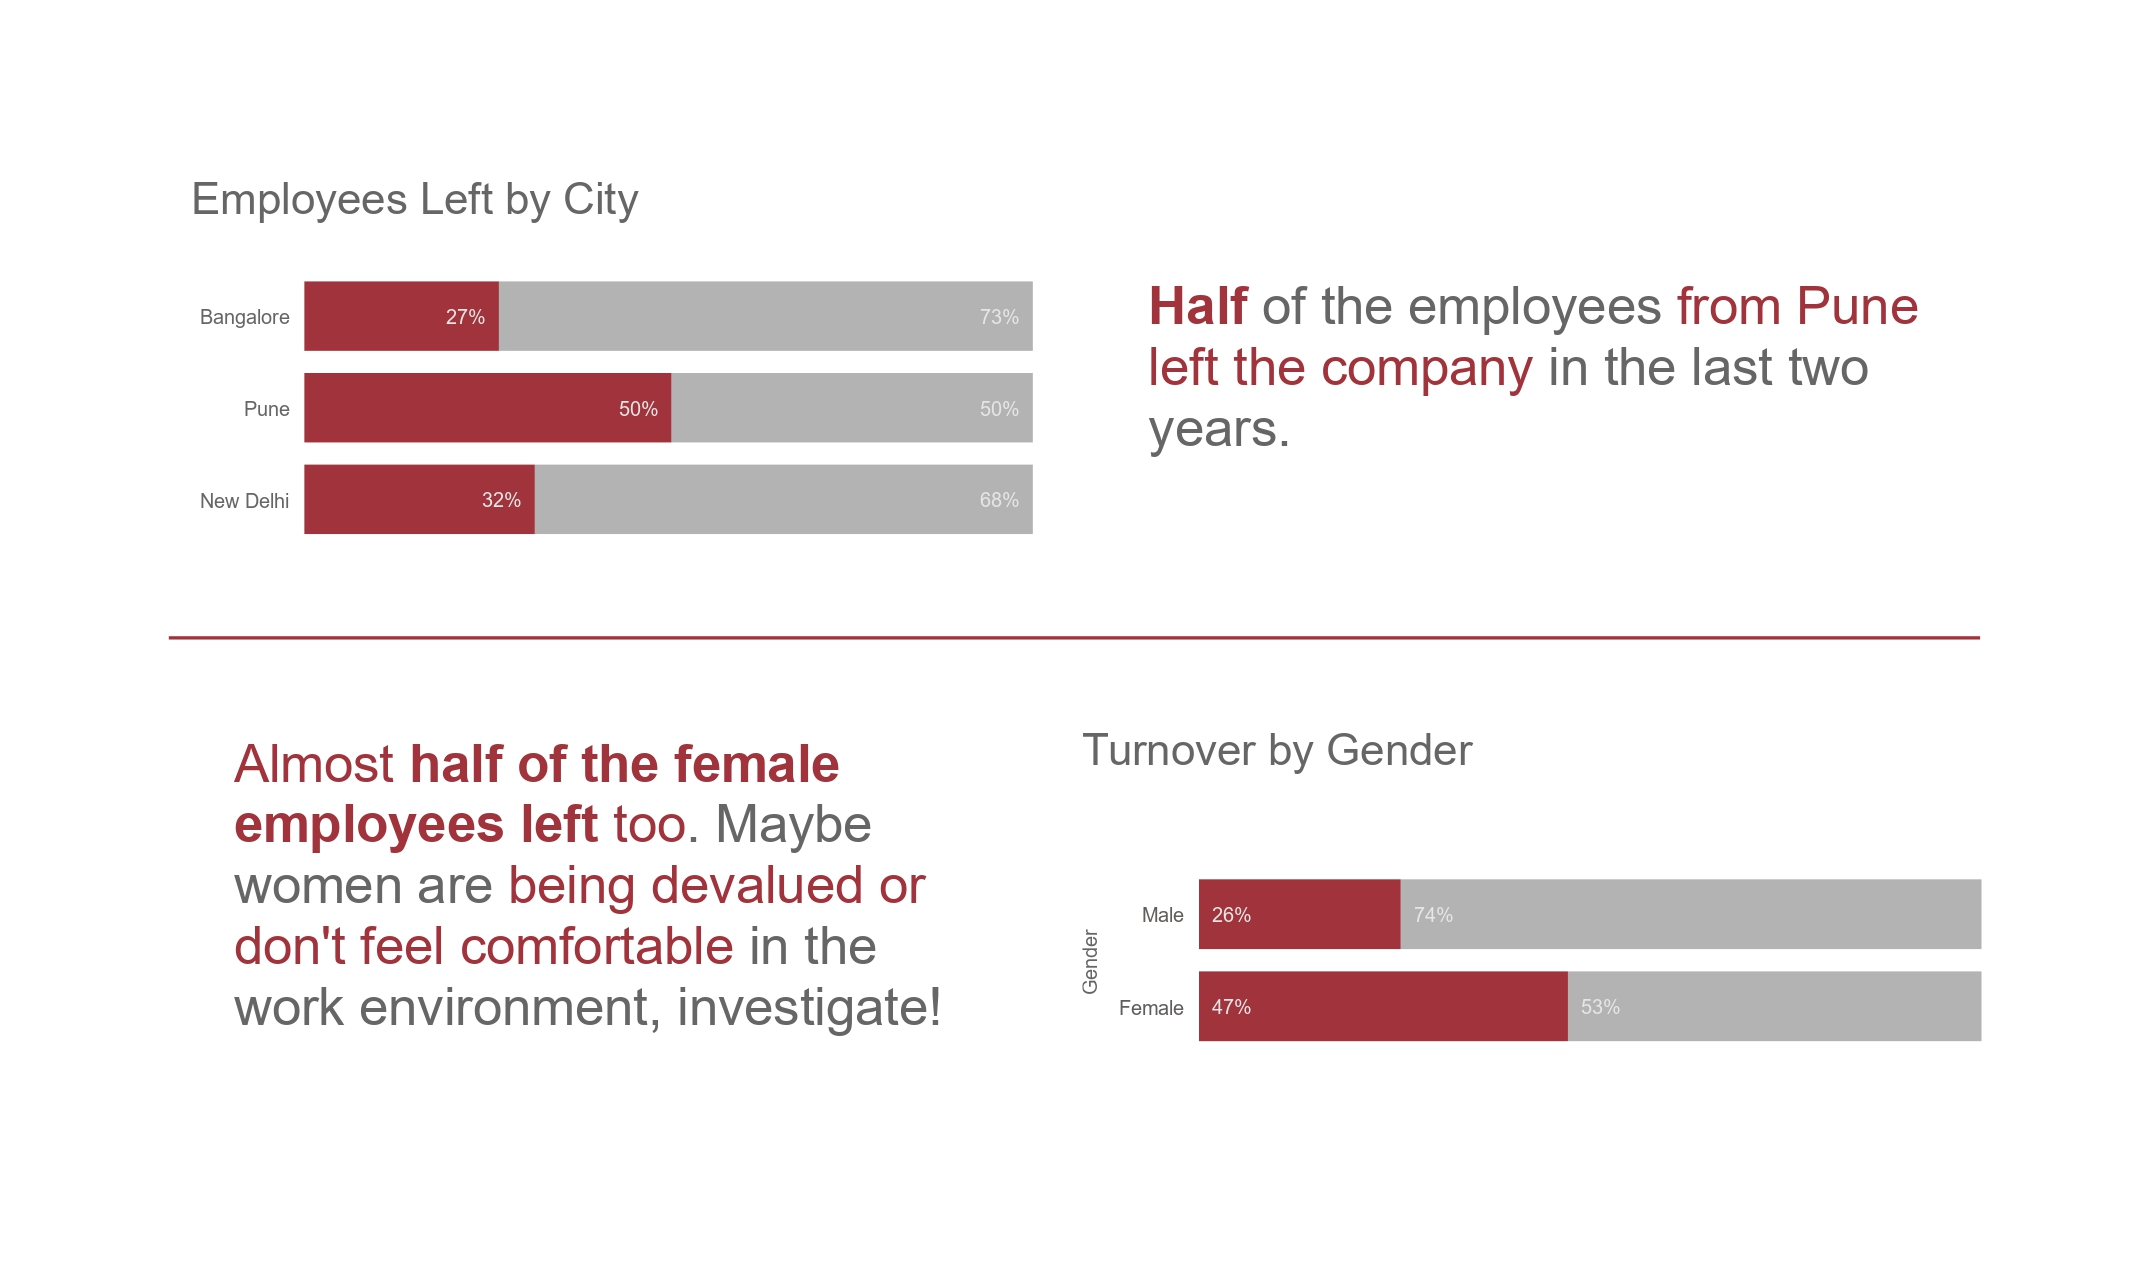

Layout of this report page (visuals, bound fields, positions):
{"tool":"powerbi","page":{"name":"Página 3","canvas":[1280,720],"ordinal":2},"visuals":[{"type":"hundredPercentStackedBarChart","title":"Employees Left by City","fields":{"Category":["Employee.City"],"Y":["CountNonNull(Employee.LeaveOrNot)"],"Series":["Employee.LeaveOrNot"]},"box":[96.3,77.6,523.1,248.6],"z":1},{"type":"hundredPercentStackedBarChart","title":"Turnover by Gender","fields":{"Category":["Employee.Gender"],"Y":["CountNonNull(Employee.LeaveOrNot)"],"Series":["Employee.LeaveOrNot"]},"box":[639.5,413.9,557.6,250.1],"z":2},{"type":"textbox","box":[679.8,135.1,503,133.7],"z":4},{"type":"textbox","box":[122.2,413.9,471.4,261.6],"z":5},{"type":"shape","box":[87.7,337.7,1103.7,44.6],"z":6}]}

Visuals, with their boxes on the page's 1280x720 design canvas (x1, y1, x2, y2). These are canvas units, not pixel positions in the 2150x1275 screenshot, which may show the page scaled, cropped or inside an application window:
"Employees Left by City" hundredPercentStackedBarChart: BBox(96, 78, 619, 326)
"Turnover by Gender" hundredPercentStackedBarChart: BBox(640, 414, 1197, 664)
textbox: BBox(680, 135, 1183, 269)
textbox: BBox(122, 414, 594, 676)
shape: BBox(88, 338, 1191, 382)
